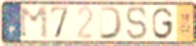2: (76, 5, 96, 41)
7: (49, 5, 70, 40)
D: (98, 6, 125, 40)
G: (151, 6, 175, 41)
M: (17, 5, 51, 40)
S: (125, 5, 149, 41)
